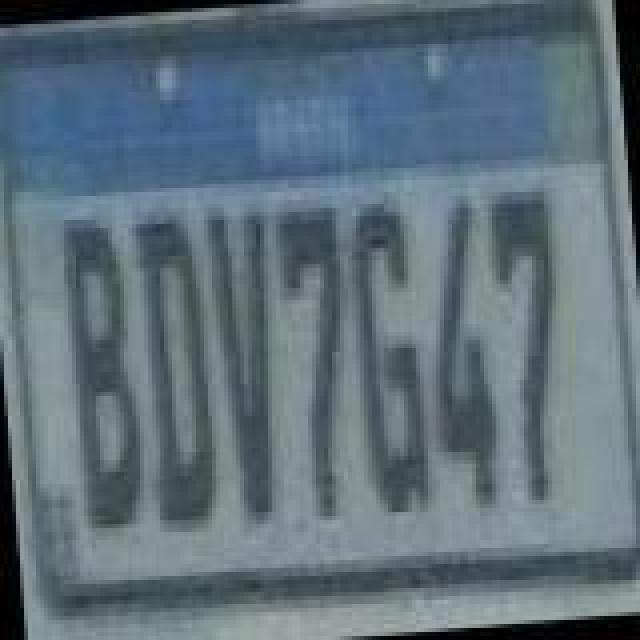4: (418, 194, 510, 518)
7: (274, 204, 366, 532), (484, 184, 572, 504)
B: (56, 210, 152, 534)
D: (130, 210, 222, 526)
G: (344, 198, 440, 522)
V: (202, 206, 294, 530)
